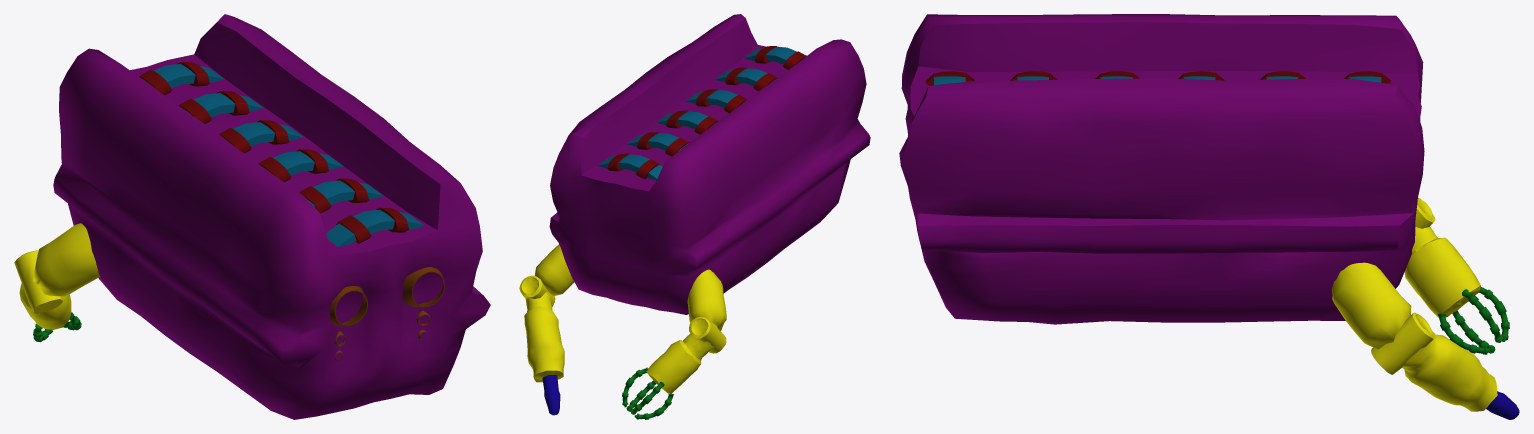
The model's file is OBJ_Drone.fbx.
3 renders of one model, left to right at view 1: azimuth 30°, elevation 25°; view 2: azimuth 150°, elevation 25°; view 3: azimuth 270°, elevation 25°, orthographic. The views are drawn at different scales.
Parts seen in each view (by area): view 1: corps; view 2: corps; view 3: corps.
Part boxes in pixels (x1,y1,x2,y2): corps: [14, 14, 490, 419]; corps: [519, 14, 870, 419]; corps: [899, 14, 1519, 419].
Size of the model in its own units: 175 by 216 by 347.
